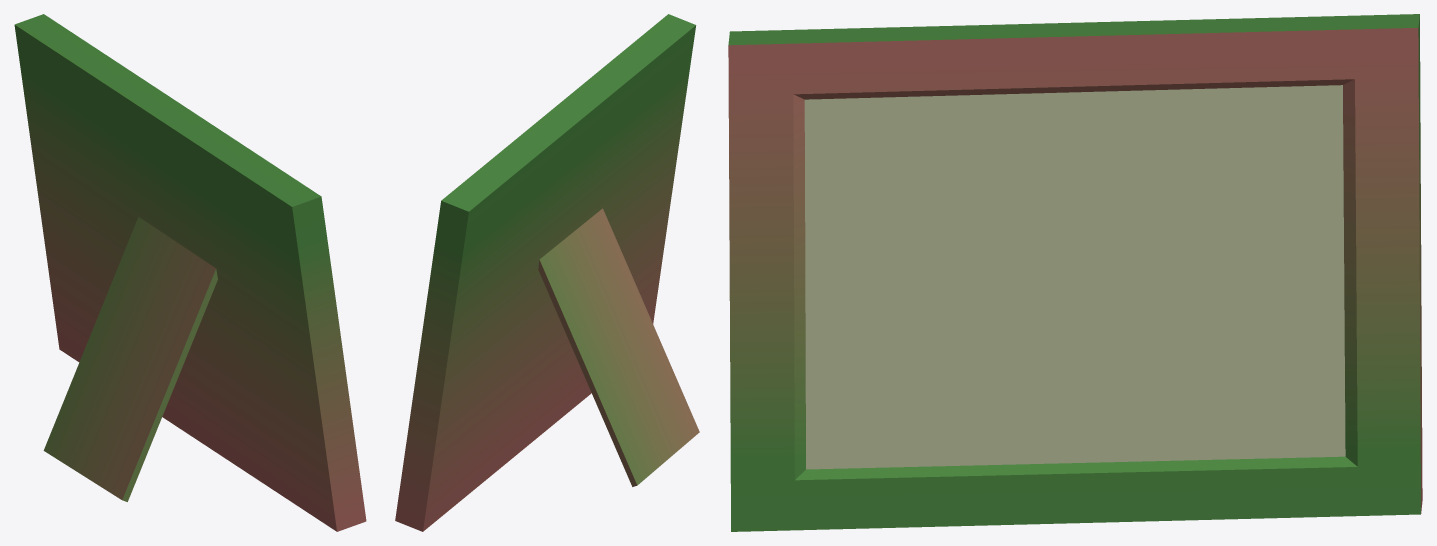
Rendered from Livingroom2_Photoframe.fbx.
3 renders of one model, left to right at view 1: azimuth 30°, elevation 25°; view 2: azimuth 150°, elevation 25°; view 3: azimuth 270°, elevation 25°, orthographic. The views are drawn at different scales.
Visible parts, largest first — view 1: Livingroom2_Photoframe; view 2: Livingroom2_Photoframe; view 3: Livingroom2_Photoframe.
Boxes of the visible parts, x1,y1,x2,y2 form: Livingroom2_Photoframe: (14,14,366,531); Livingroom2_Photoframe: (395,14,699,531); Livingroom2_Photoframe: (728,14,1422,531).
Bounding box in the file's own units: 12.87 × 24.9 × 33.77.
